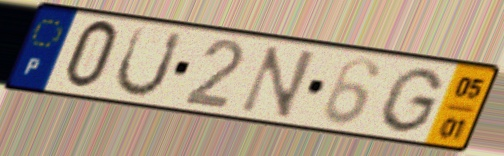0: (59, 17, 124, 96)
2: (177, 37, 246, 111)
6: (319, 55, 384, 128)
G: (375, 65, 448, 136)
N: (234, 43, 320, 121)
U: (111, 24, 187, 100)
